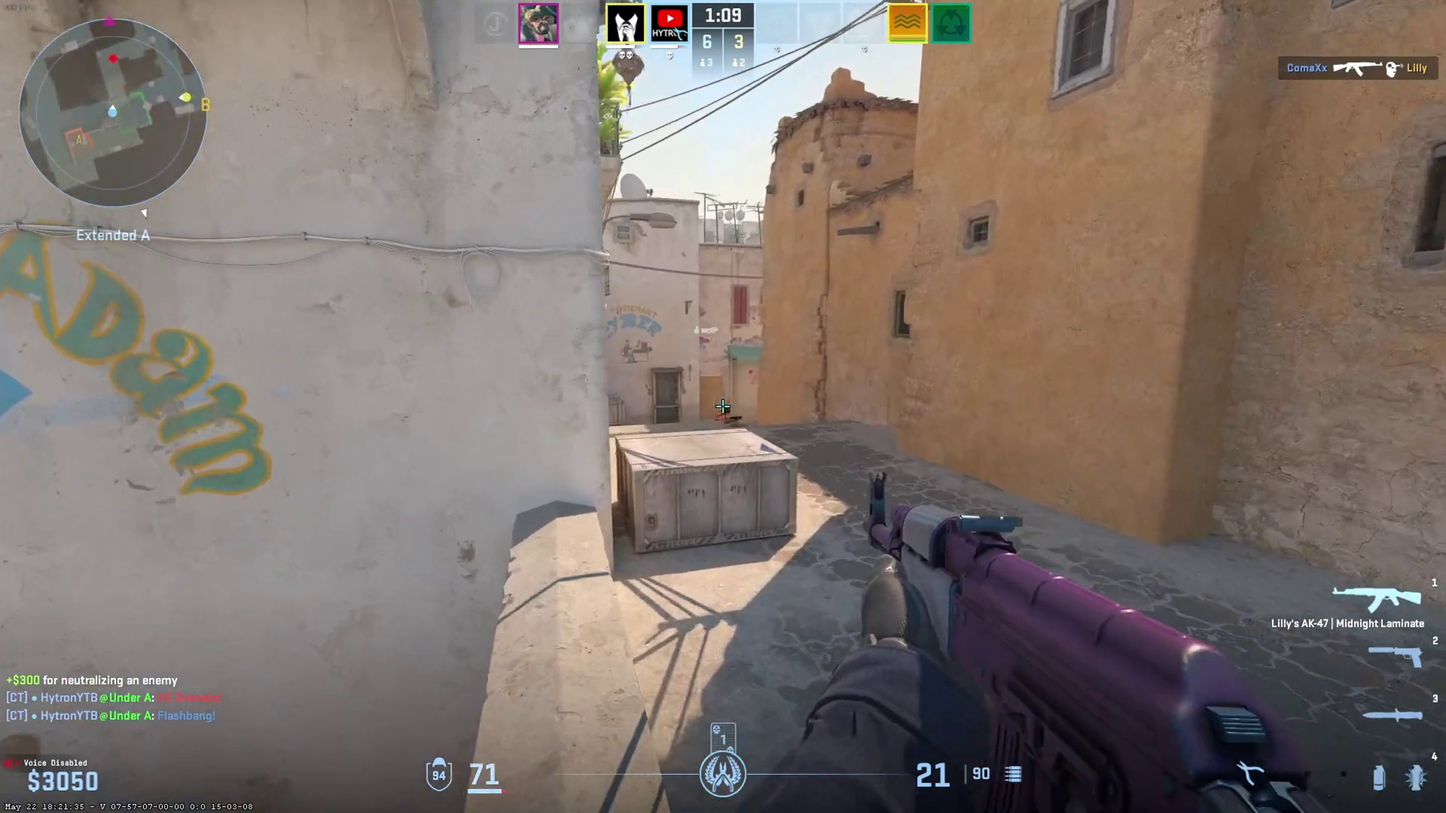Terrorist: (715, 408, 734, 423)
